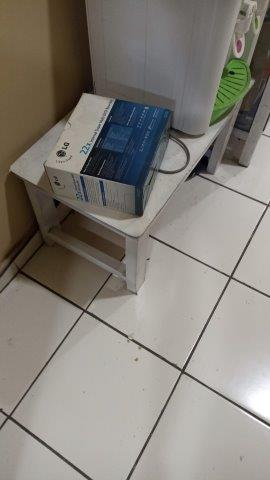kardus: (44, 93, 171, 218)
